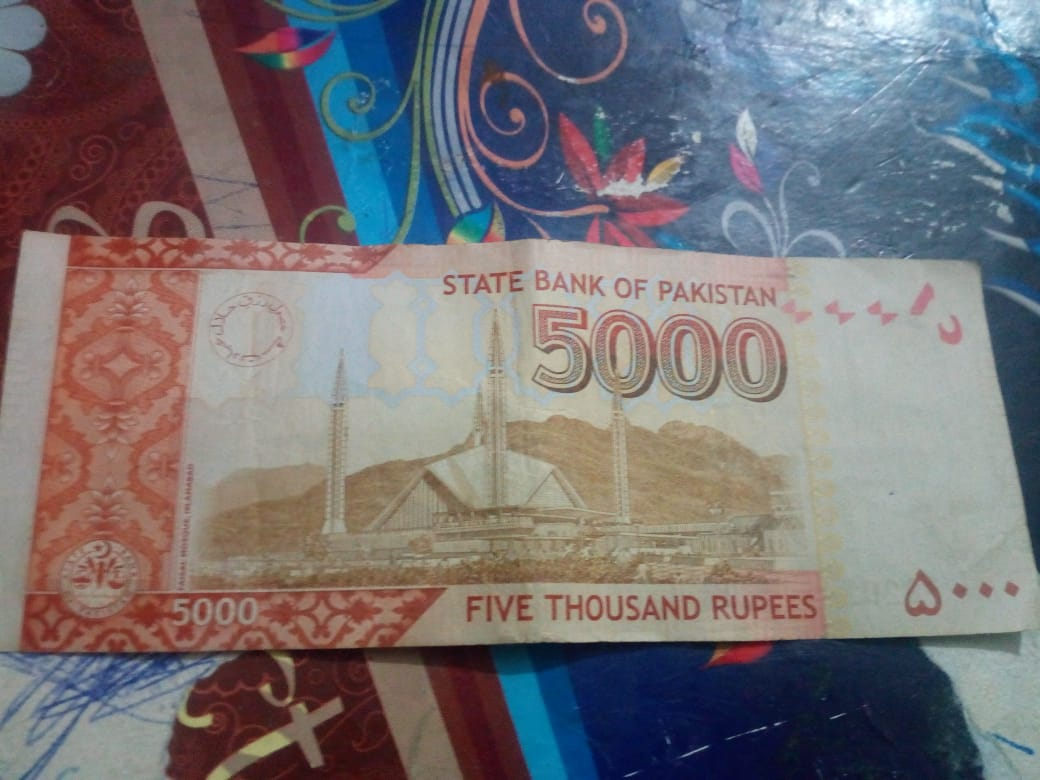5000 rupee: (11, 214, 1028, 657)
